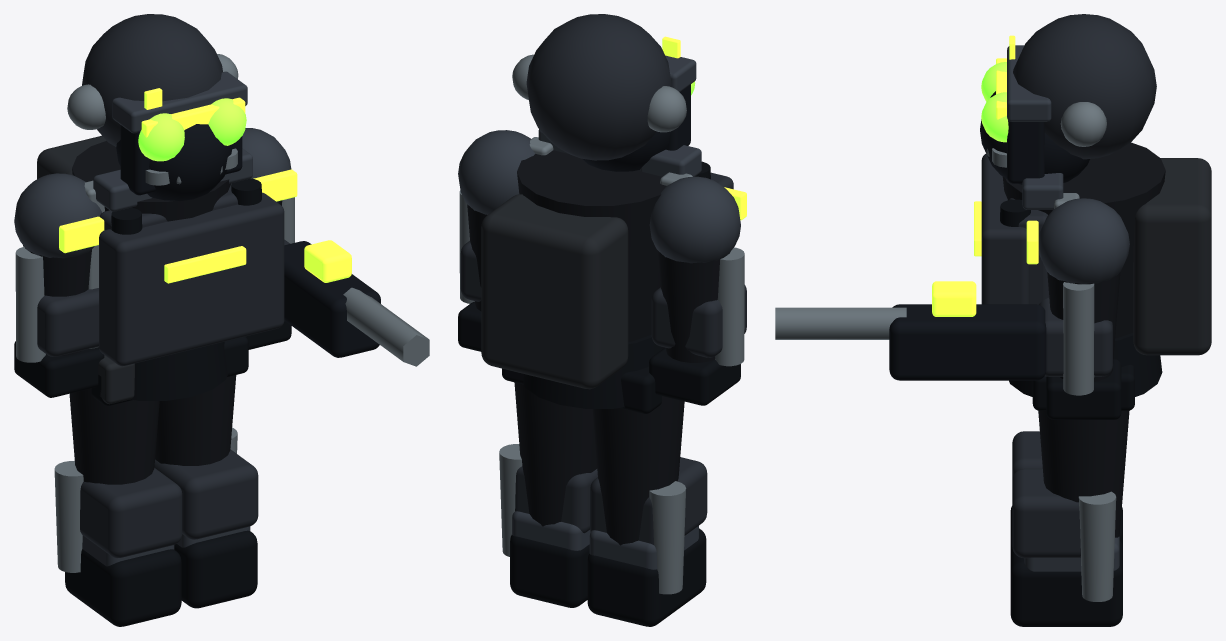
Rendered from sentinel_l01.glb.
3 renders of one model, left to right at view 1: azimuth 30°, elevation 25°; view 2: azimuth 150°, elevation 25°; view 3: azimuth 270°, elevation 25°, orthographic. The views are drawn at different scales.
Parts seen in each view (by area): view 1: tactical_chest_plate, shaped_knee_guard (×2), trouser (×2), boot (×2), rounded_helmet, shoulder_joint (×2), heavy_carbine, waist_flex, enclosed_mask, glove (×2), forearm_plate, heavy_barrel (+21 smaller); view 2: field_pack, trouser (×2), rounded_helmet, shoulder_joint (×2), boot (×2), body, shin_frame (×2), shaped_knee_guard (×2), sleeve (×2), glove (×2), forearm_plate (×2), shin_plate (×2) (+8 smaller); view 3: field_pack, rounded_helmet, heavy_carbine, trouser, body, shoulder_joint, shaped_knee_guard (×2), boot, tactical_chest_plate, heavy_barrel, shin_frame, forearm_seam (+15 smaller).
Part boxes in pixels (<box>): tactical_chest_plate: <box>99,192,284,366</box>; shaped_knee_guard (×2): <box>80,449,258,558</box>; trouser (×2): <box>69,375,236,484</box>; boot (×2): <box>65,530,257,626</box>; rounded_helmet: <box>82,14,222,146</box>; shoulder_joint (×2): <box>14,128,291,258</box>; heavy_carbine: <box>284,241,380,357</box>; waist_flex: <box>98,341,227,400</box>; enclosed_mask: <box>116,124,232,201</box>; glove (×2): <box>14,320,291,397</box>; forearm_plate: <box>37,288,98,356</box>; heavy_barrel: <box>343,287,429,366</box>; field_pack: <box>481,194,628,389</box>; trouser (×2): <box>514,382,684,545</box>; rounded_helmet: <box>526,14,671,160</box>; shoulder_joint (×2): <box>458,130,740,263</box>; boot (×2): <box>510,528,706,626</box>; body: <box>517,150,666,341</box>; shin_frame (×2): <box>499,444,686,594</box>; shaped_knee_guard (×2): <box>515,457,707,544</box>; sleeve (×2): <box>467,204,730,362</box>; glove (×2): <box>458,301,740,405</box>; forearm_plate (×2): <box>460,241,746,357</box>; shin_plate (×2): <box>512,511,698,569</box>; field_pack: <box>1133,158,1211,355</box>; rounded_helmet: <box>1013,14,1156,159</box>; heavy_carbine: <box>889,304,1046,380</box>; trouser: <box>1038,410,1129,537</box>; body: <box>1002,142,1165,338</box>; shoulder_joint: <box>1038,198,1129,284</box>; shaped_knee_guard (×2): <box>1012,431,1080,558</box>; boot: <box>1010,540,1122,626</box>; tactical_chest_plate: <box>981,154,1029,304</box>; heavy_barrel: <box>775,307,906,339</box>; shin_frame: <box>1078,491,1116,601</box>; forearm_seam: <box>1063,282,1094,395</box>.
Size of the model in its own units: 0.9406 by 1.86 by 1.28.
